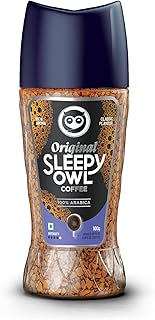Coffee: (15, 2, 138, 300)
